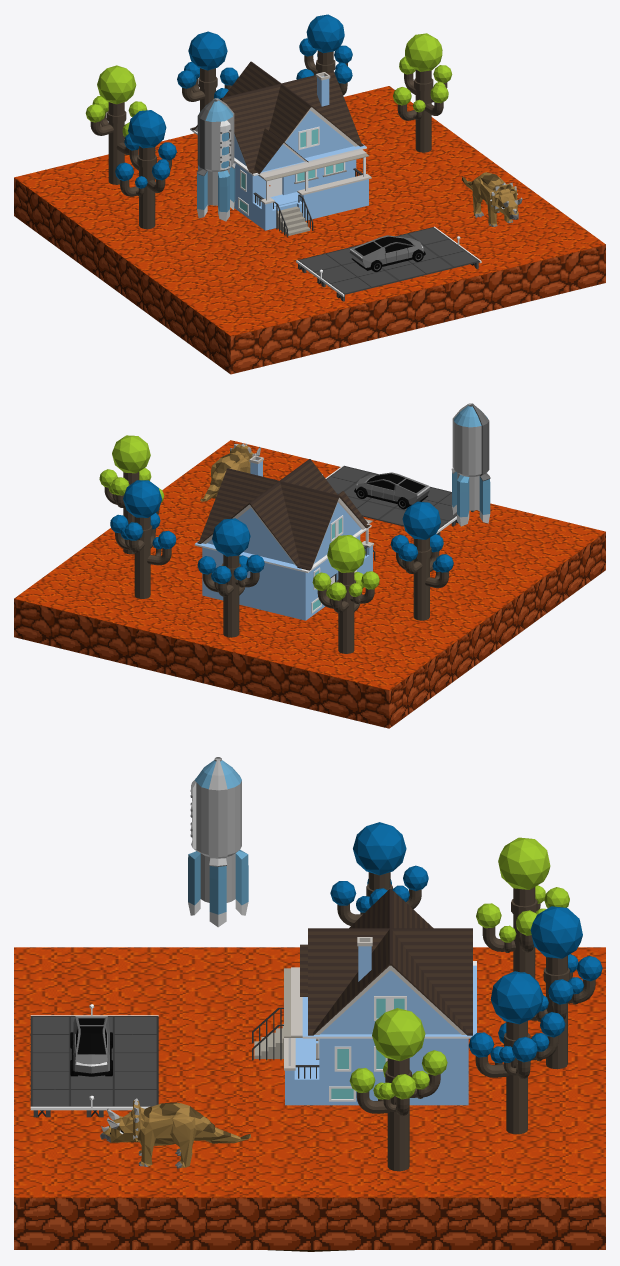
The picture shows the model from 3 angles, top to bottom: view 1: azimuth 30°, elevation 25°; view 2: azimuth 150°, elevation 25°; view 3: azimuth 270°, elevation 25°; orthographic projection. The views are drawn at different scales.
Parts seen in each view (by area): view 1: Cube.001, Cube.1594, OBJRANDOM_ROCKETSHIP, ANIMAL_Triceratops, VEHICLES_CYBERTRUCK; view 2: Cube.001, Cube.1594, OBJRANDOM_ROCKETSHIP, VEHICLES_CYBERTRUCK, ANIMAL_Triceratops; view 3: Cube.001, Cube.1594, OBJRANDOM_ROCKETSHIP, ANIMAL_Triceratops, VEHICLES_CYBERTRUCK.
Part boxes in pixels (x1,y1,x2,y2): Cube.001: (14,14,605,374); Cube.1594: (190,61,371,236); OBJRANDOM_ROCKETSHIP: (196,98,235,221); ANIMAL_Triceratops: (462,172,522,226); VEHICLES_CYBERTRUCK: (349,235,425,271); Cube.001: (14,435,605,728); Cube.1594: (194,455,375,620); OBJRANDOM_ROCKETSHIP: (451,403,490,526); VEHICLES_CYBERTRUCK: (354,472,429,509); ANIMAL_Triceratops: (200,443,260,501); Cube.001: (14,822,605,1249); Cube.1594: (252,889,476,1105); OBJRANDOM_ROCKETSHIP: (188,757,248,927); ANIMAL_Triceratops: (100,1098,250,1168); VEHICLES_CYBERTRUCK: (70,1016,112,1076).
Bounding box in the file's own units: 4000 × 2242 × 4000.
38 materials, 4 textured.
